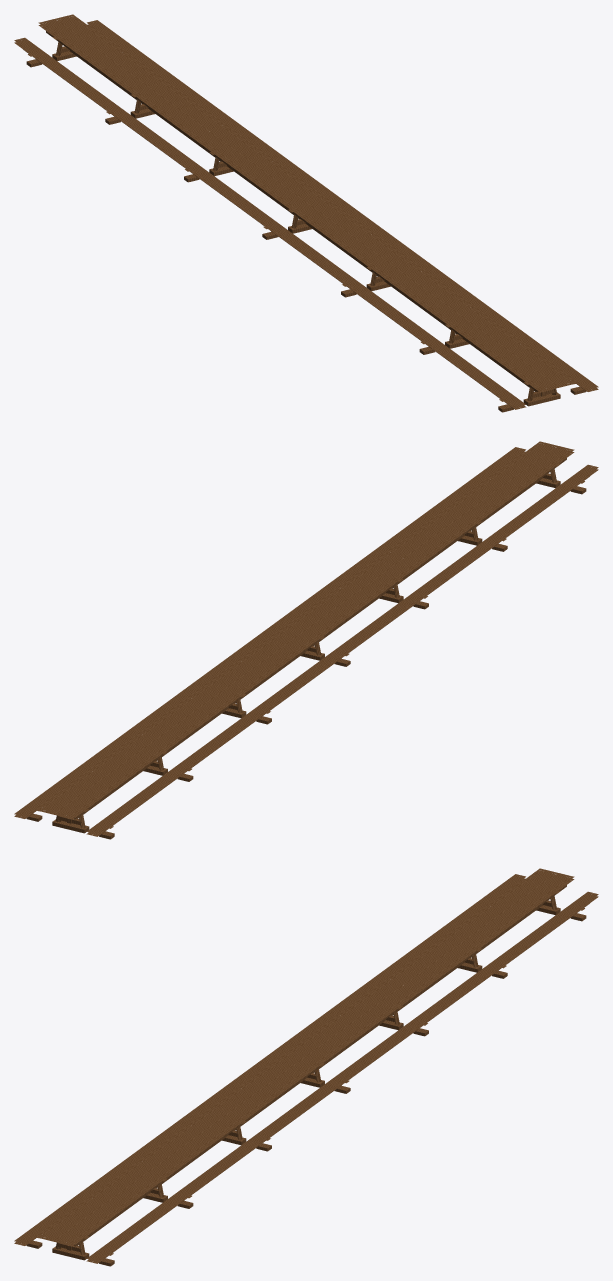
3 views of the same model, one above another, from view 1: azimuth 30°, elevation 25°; view 2: azimuth 150°, elevation 25°; view 3: azimuth 330°, elevation 25° (orthographic).
Parts seen in each view (by area): view 1: house-table; view 2: house-table; view 3: house-table.
Part boxes in pixels (x1,y1,x2,y2): house-table: [14, 14, 598, 412]; house-table: [14, 441, 598, 839]; house-table: [14, 868, 598, 1266].
Bounding box in the file's own units: 2.9 × 0.86 × 30.
Materials: 1 (1 with a texture image).
